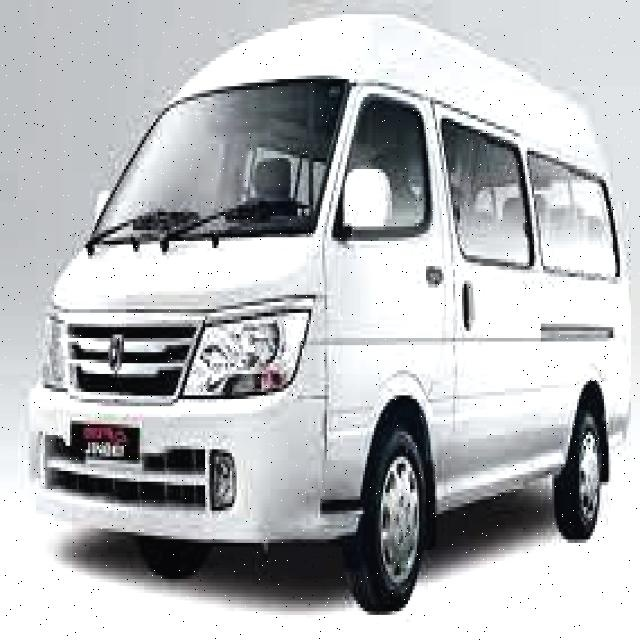Van: (16, 11, 638, 611)
